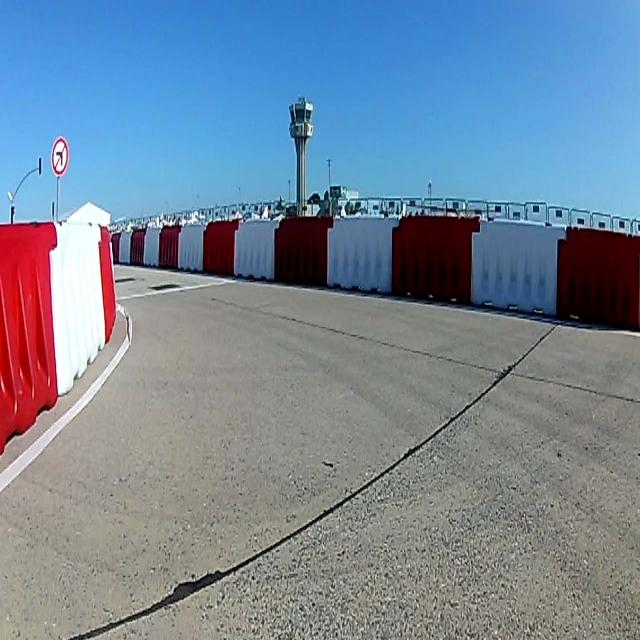soladonulmez: (51, 137, 69, 175)
